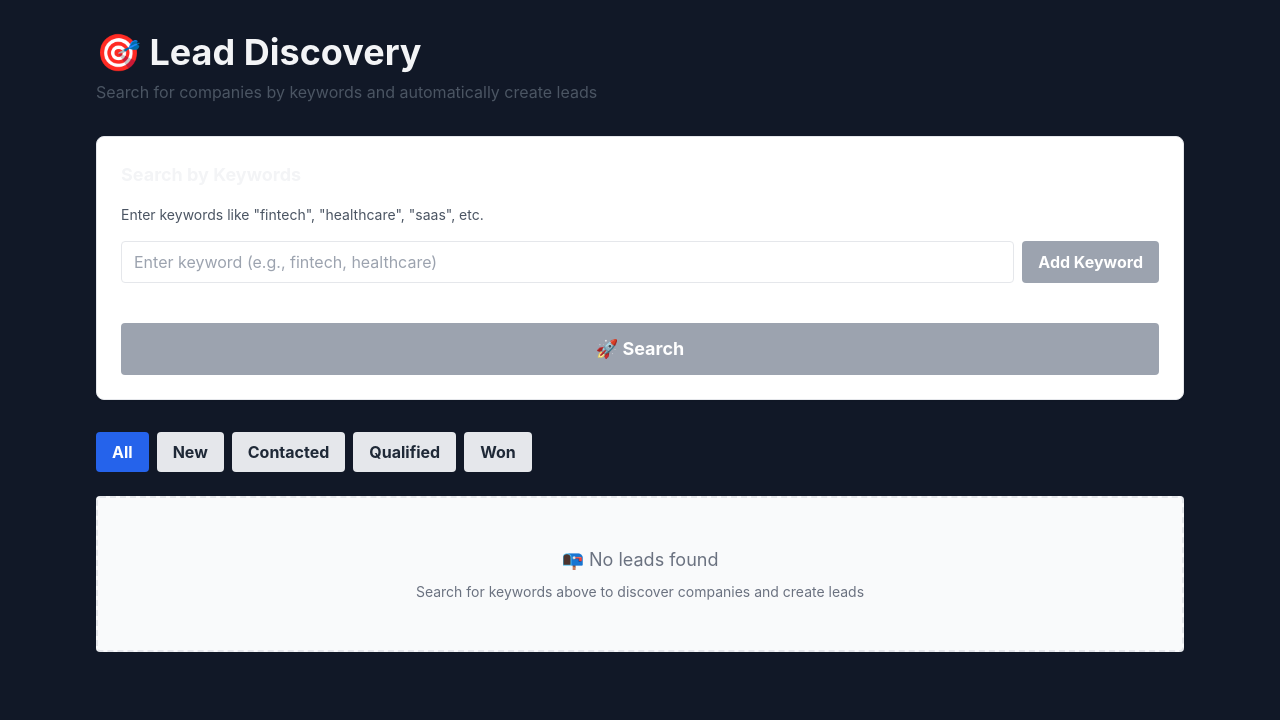
LeadDiscovery › Keyword Management › should add keyword when button clicked
In the field with placeholder "Enter keyword (e.g., fintech, healthcare)": (568, 262) [121,241,1014,283], type "fintech"
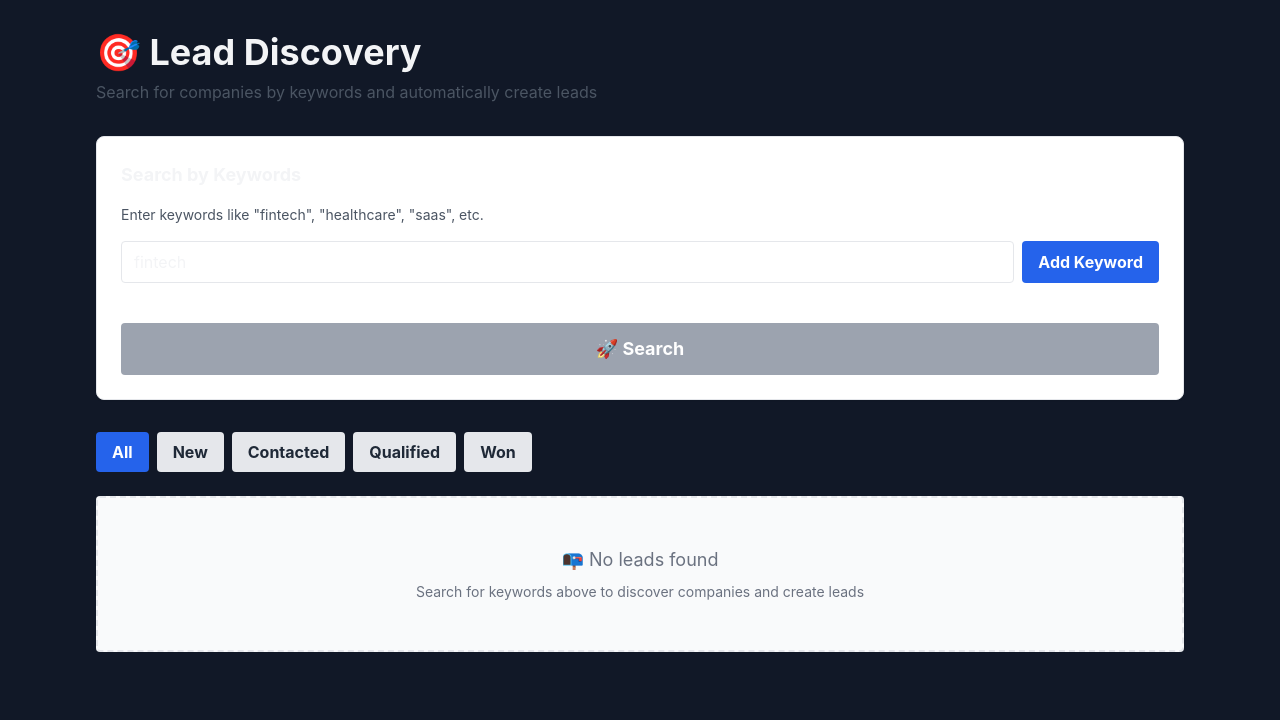
Click the button "Add Keyword": (1091, 262) [1022,241,1159,283]
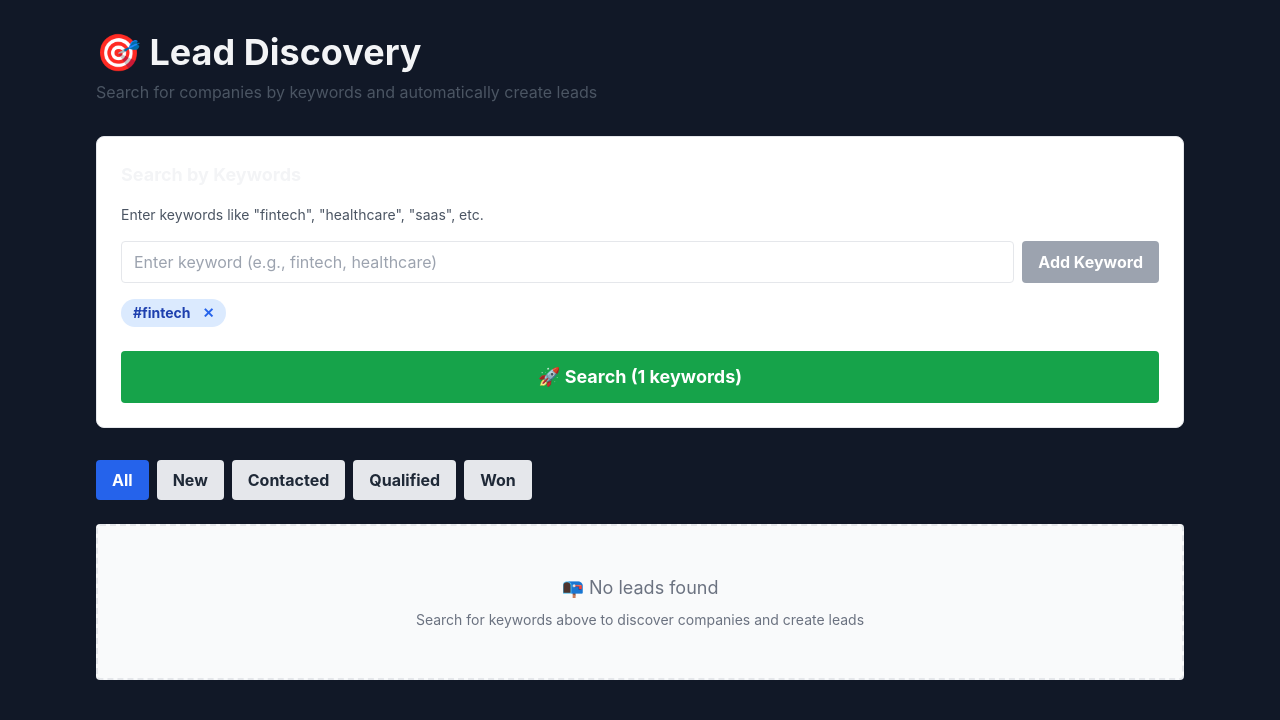
Check: the text "#fintech" is shown, box [121,299,226,327]
